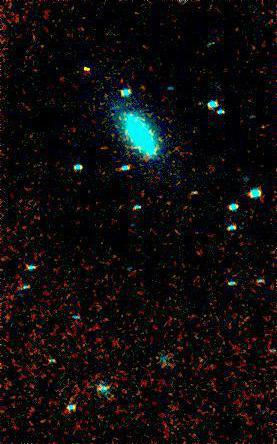star: (72, 58, 102, 88)
